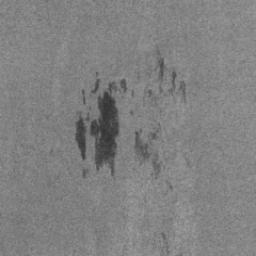Iron scale compression: (91, 77, 128, 175), (134, 130, 167, 179), (77, 116, 86, 161), (158, 57, 165, 91), (177, 83, 187, 100), (92, 78, 100, 93), (172, 71, 177, 87), (81, 89, 85, 102), (82, 168, 87, 178)
